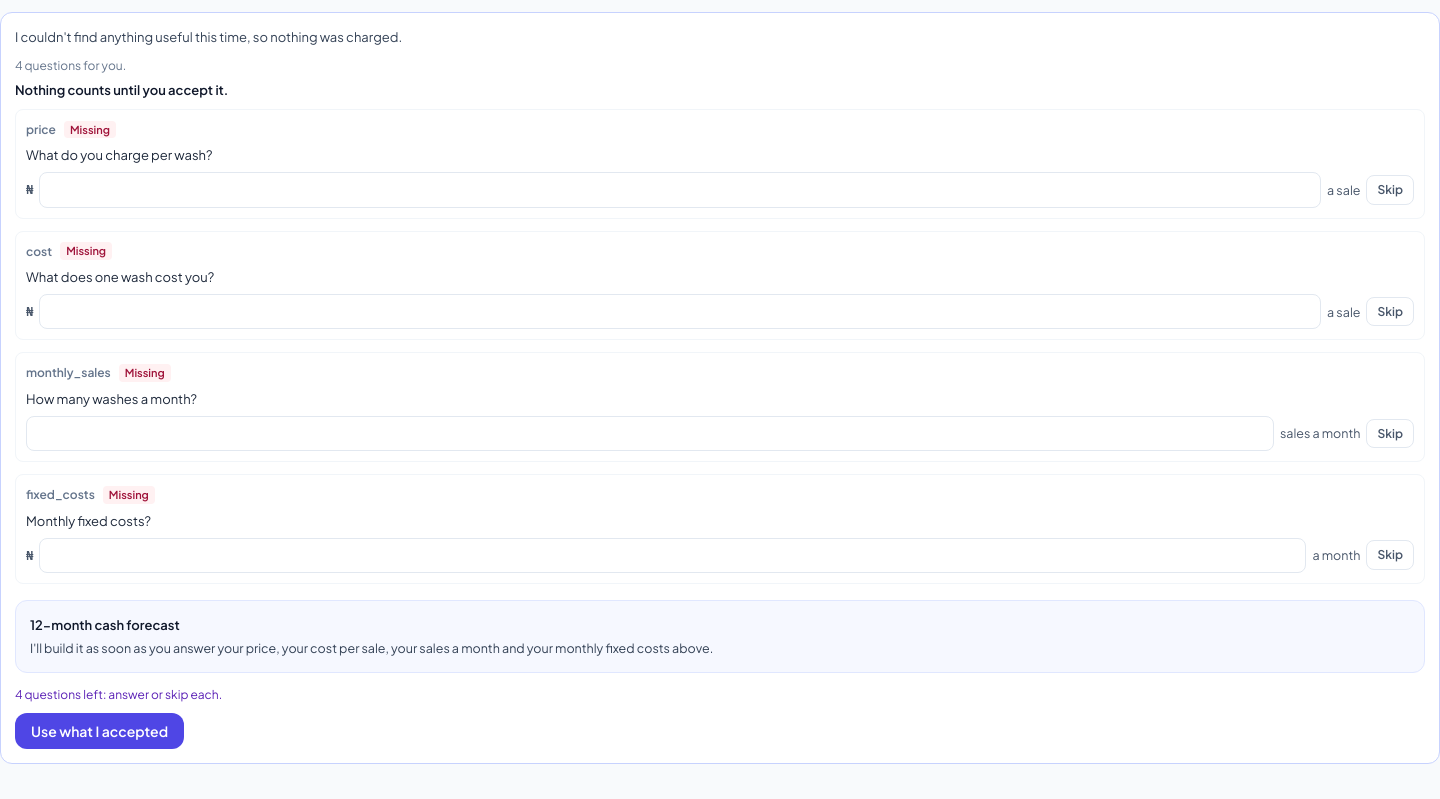
Test: says what the forecast waits for, then builds it from the answers
Check: the text "I'll build it as soon as you answer your price, your cost per sale, your sales a month and your monthly fixed costs above." is shown, box [30,640,713,656]
Type "4000" into the field labelled "What do you charge per wash?" at (680, 190), box [39,172,1321,208]
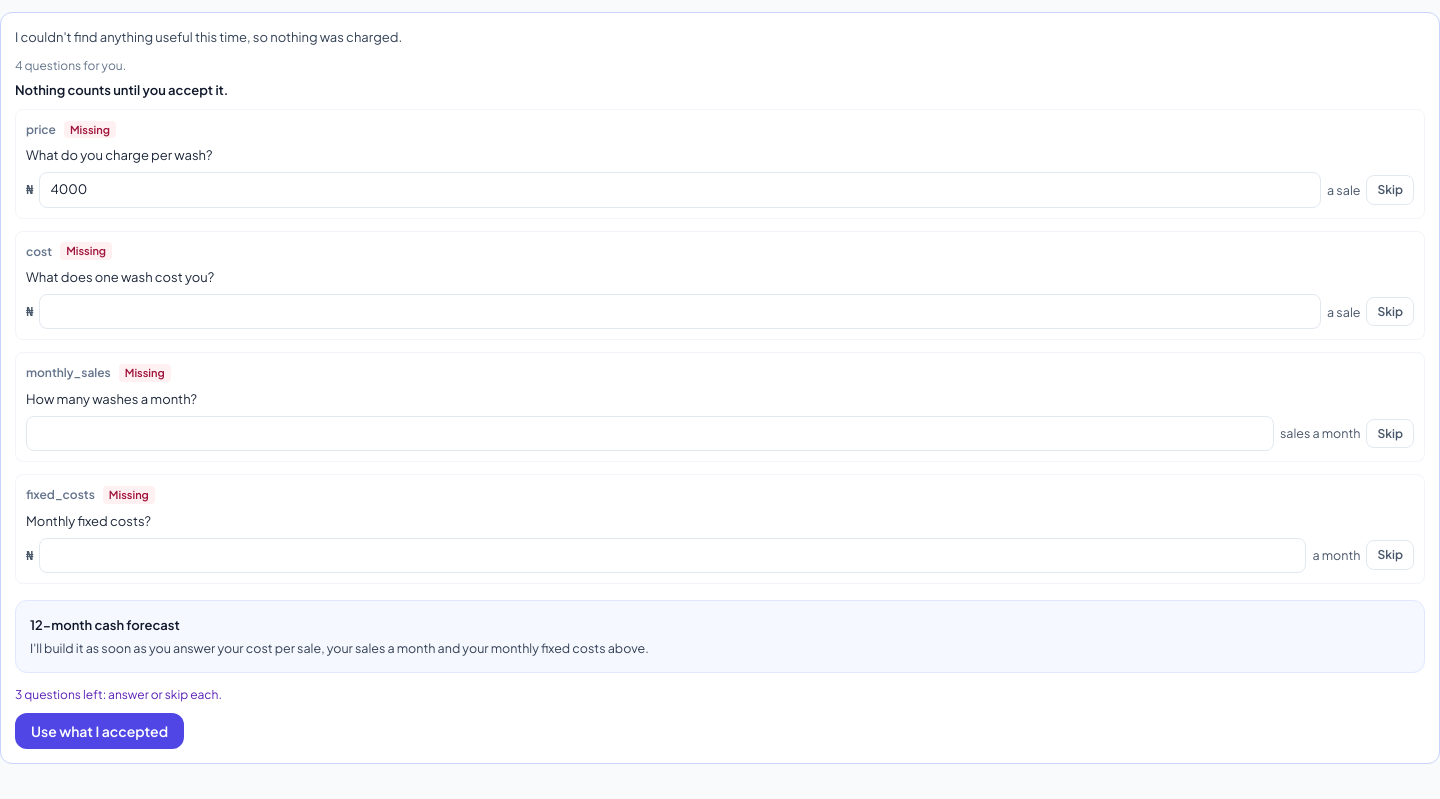
Type "1500" into the field labelled "What does one wash cost you?" at (680, 312), box [39,294,1321,329]
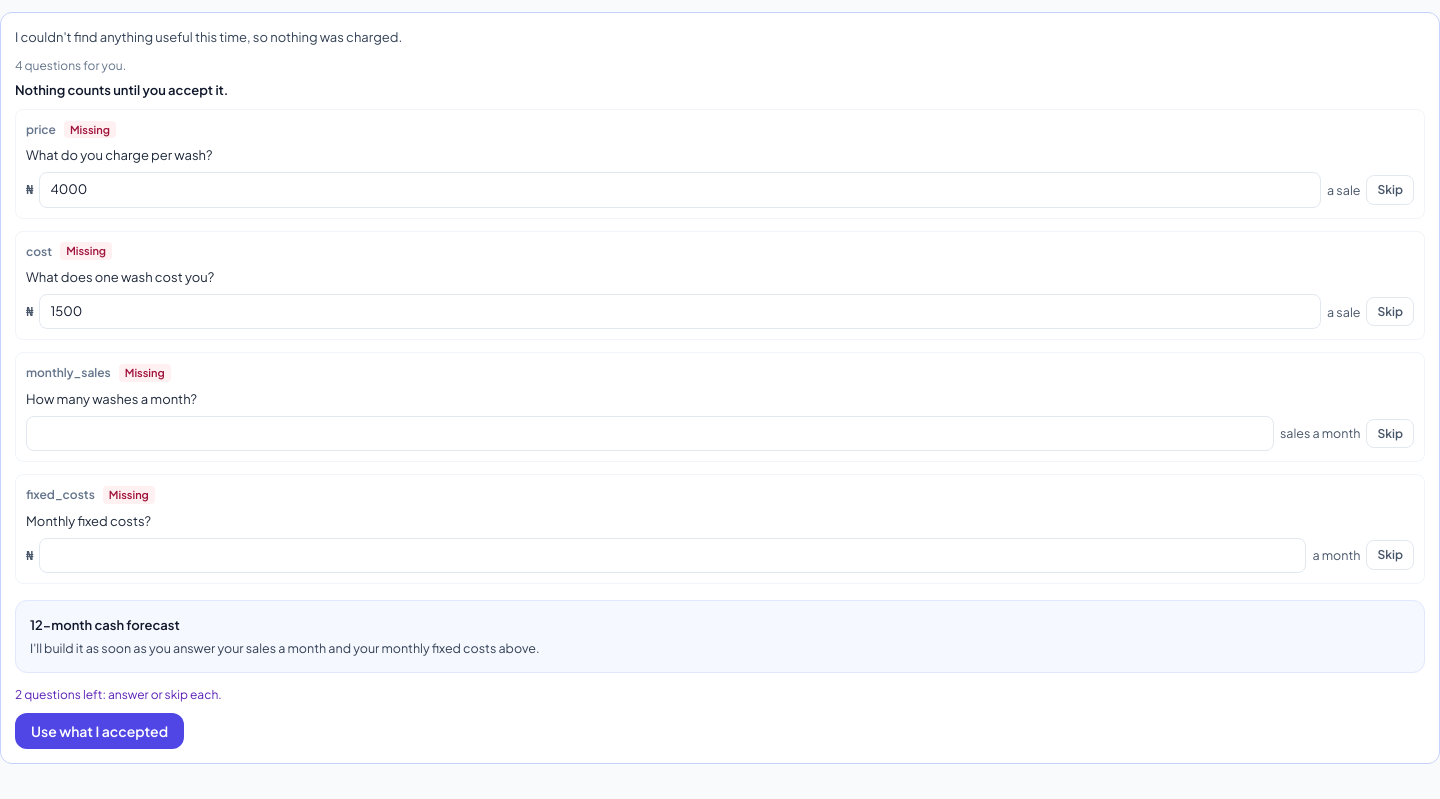
Type "300" into the field labelled "How many washes a month?" at (650, 433), box [26,416,1274,451]
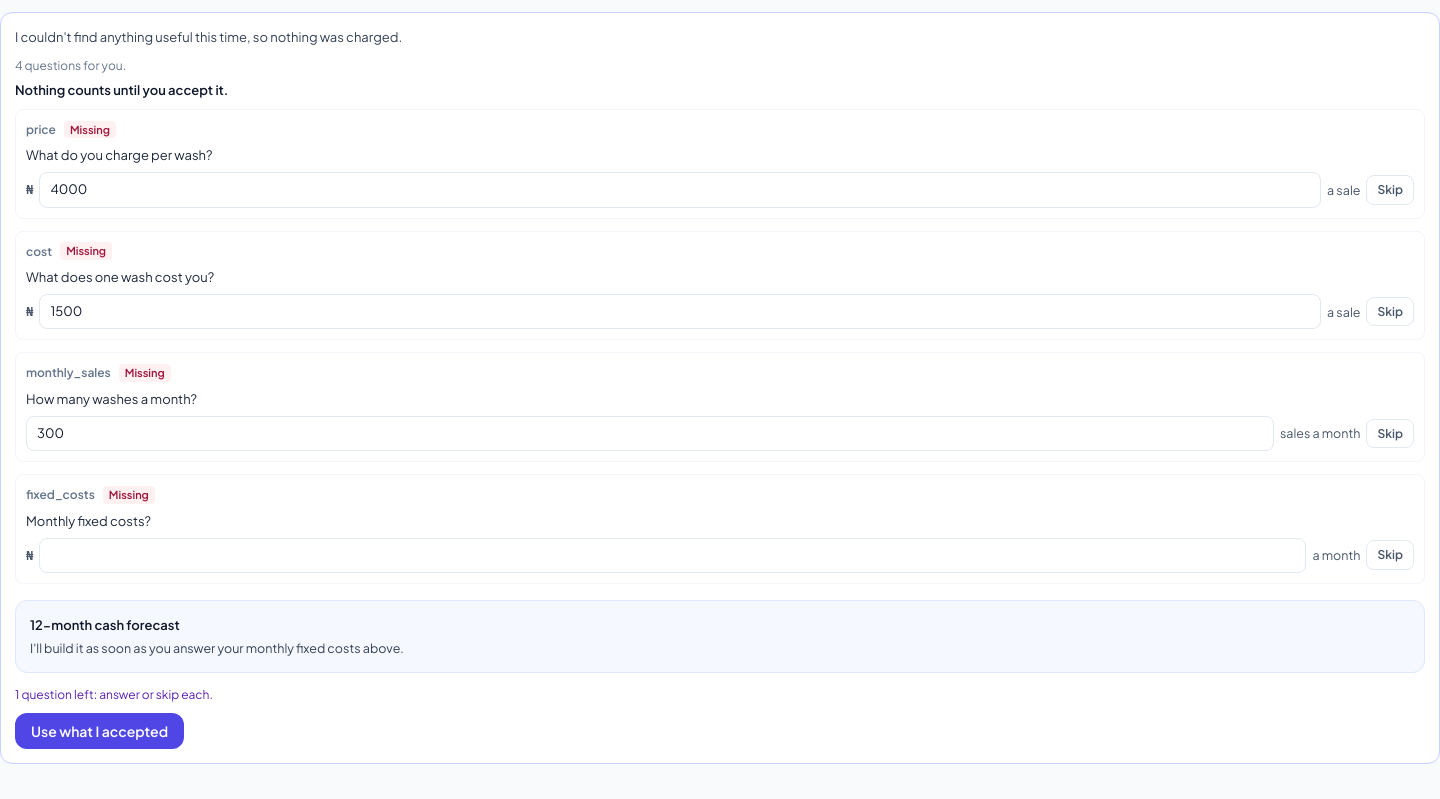
Type "200000" into the field labelled "Monthly fixed costs?" at (673, 555), box [39,538,1306,573]
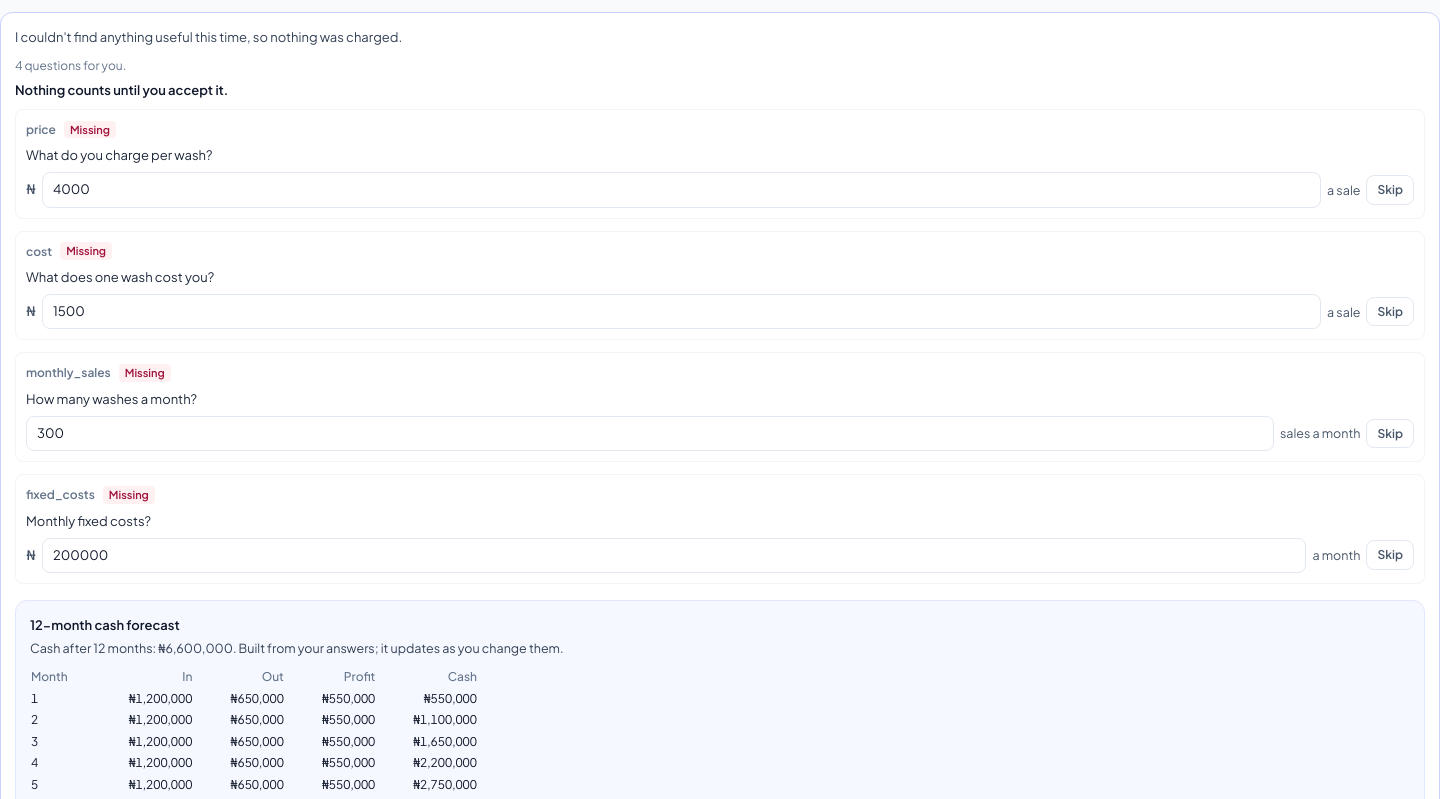
Check: the text "Cash after 12 months: ₦6,600,000" is shown, box [30,640,233,656]
